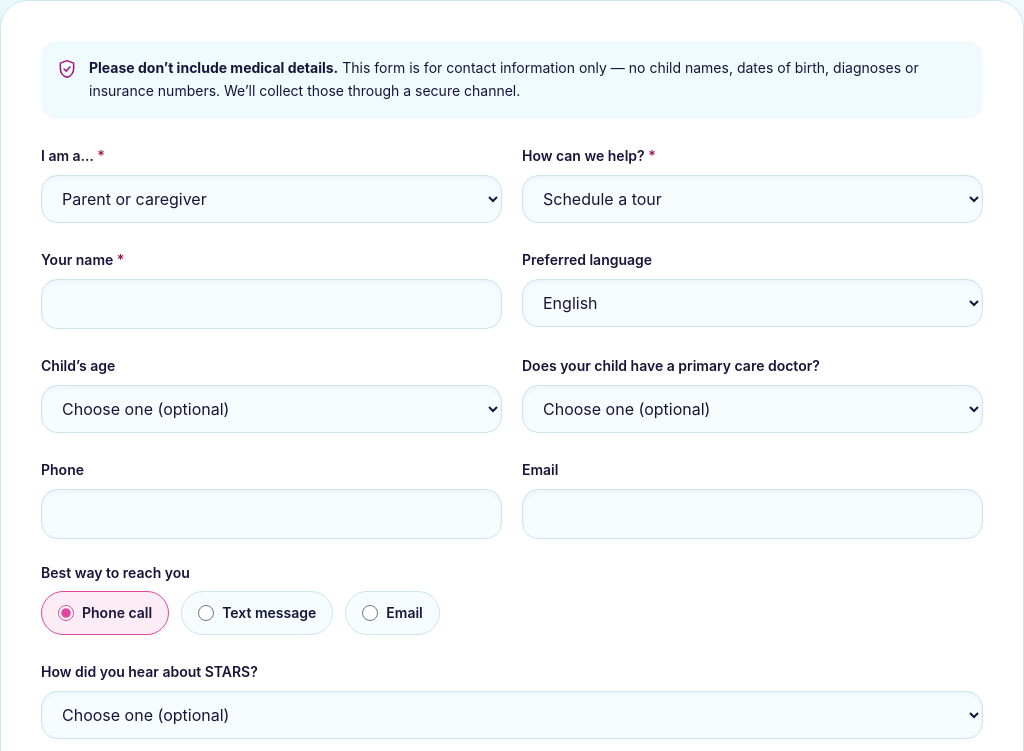
Test: <InquiryForm /> › handles network failures
The width and height of the screenshot is (1024, 751).
In the field labelled "Your name *": (272, 304) [41,278,502,328], type "Jordan Parker"
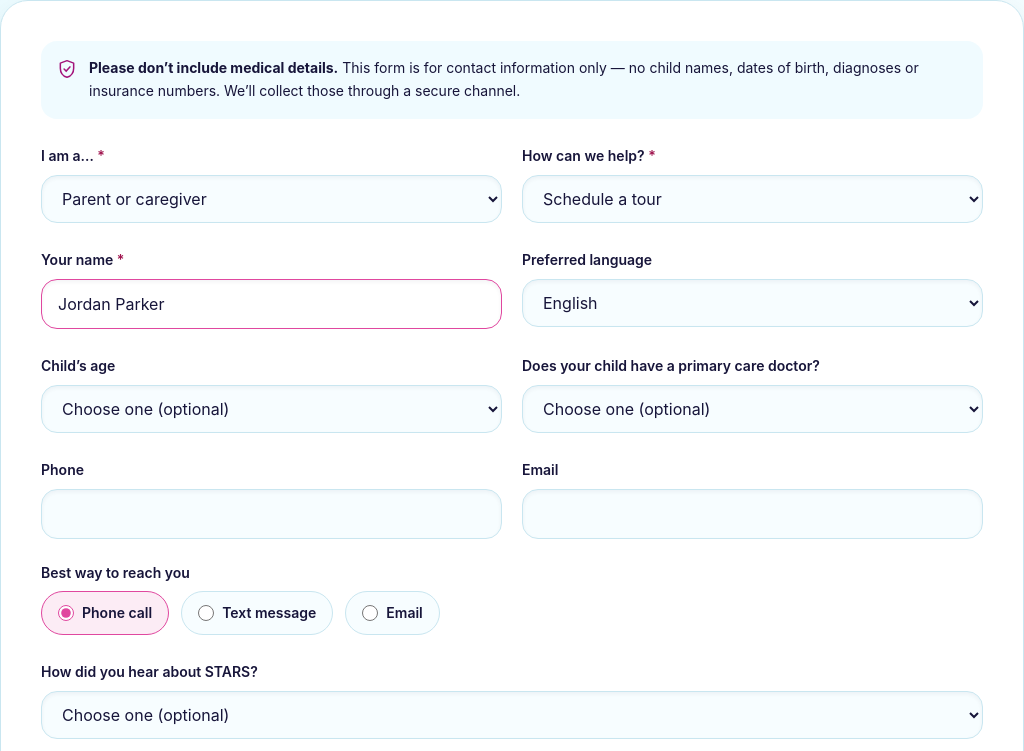
In the field labelled "Phone": (272, 514) [41,488,502,538], type "870-555-0134"
(page scrolled)
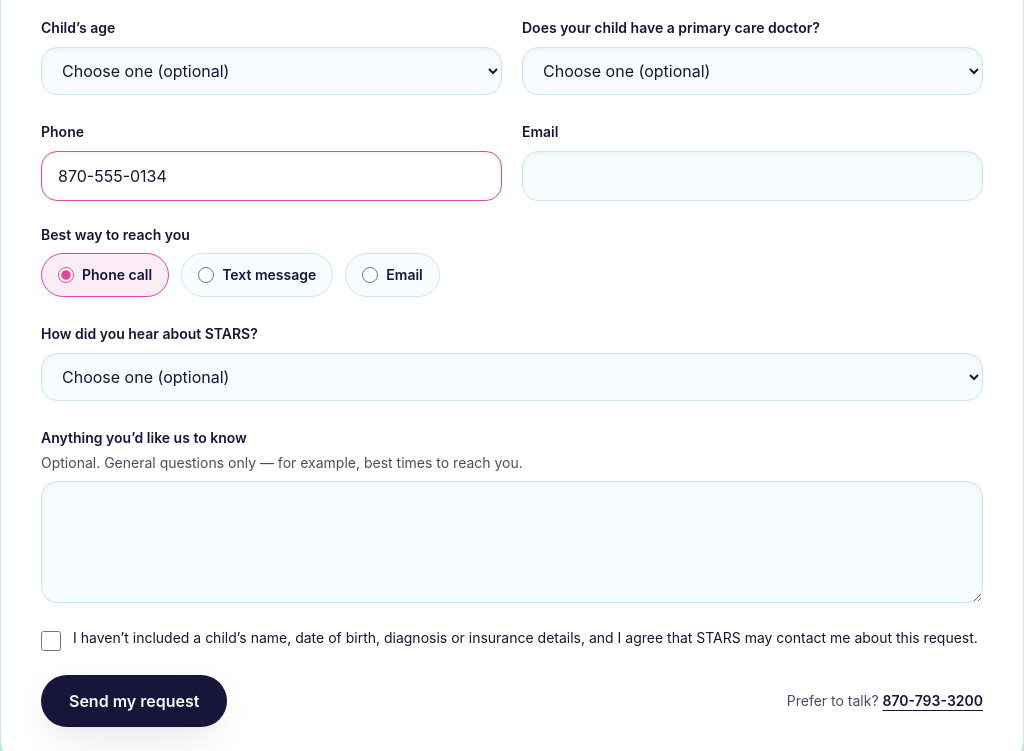
Click the checkbox: (51, 640) [41,630,61,650]
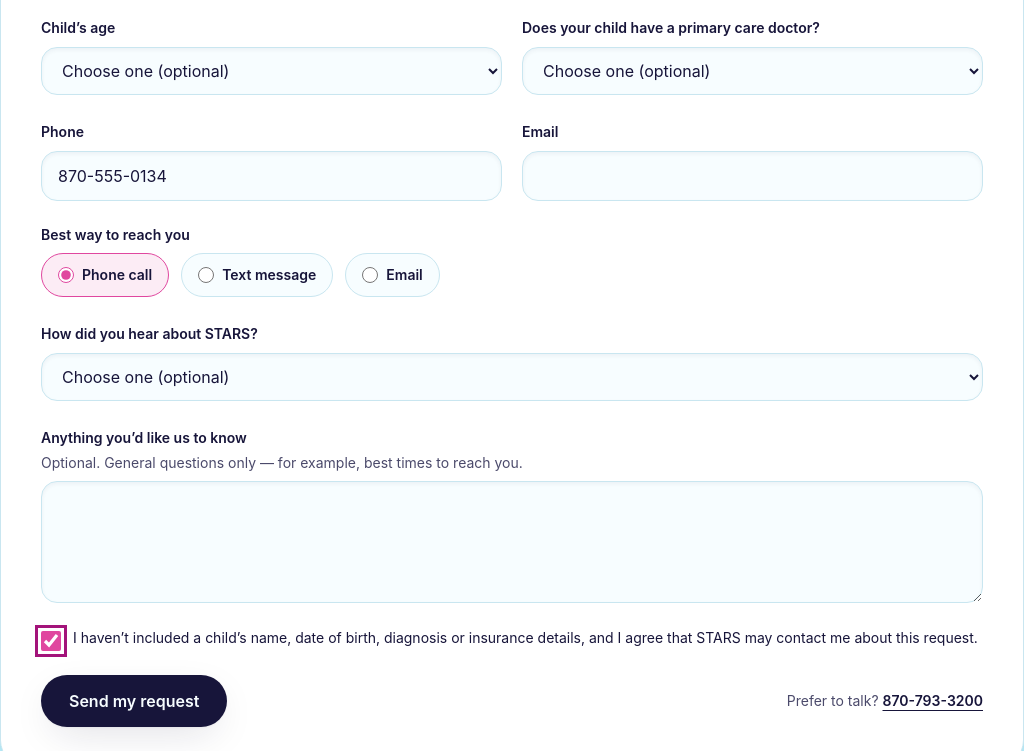
Click the button "Send my request": (134, 700) [41,674,227,726]
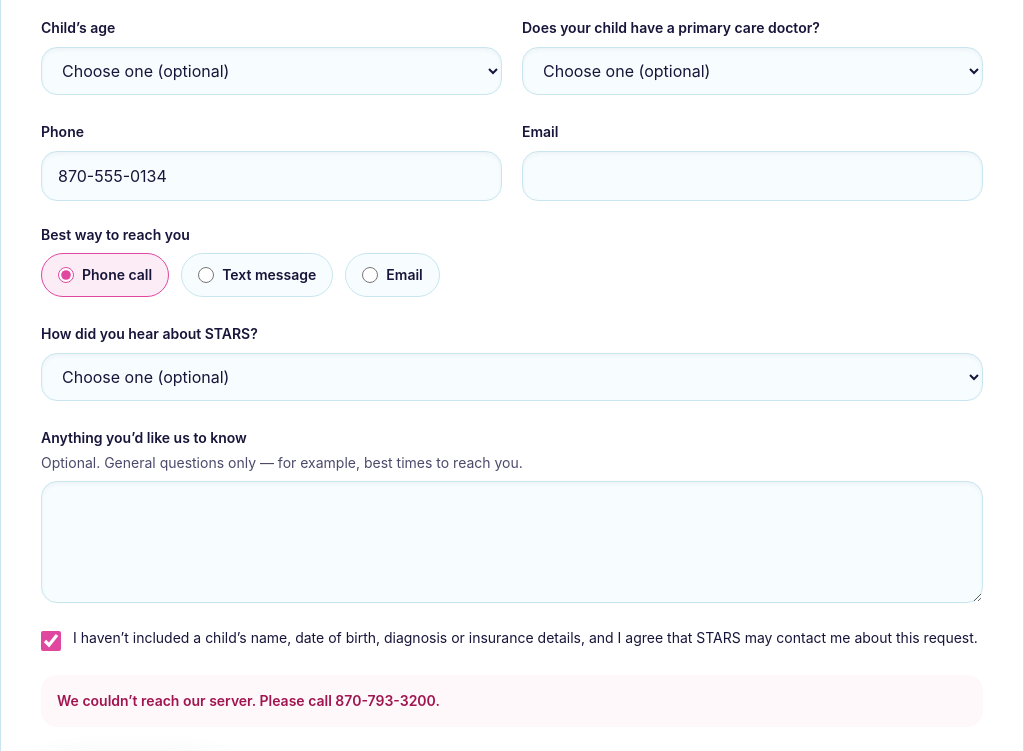
Result: the message shows "couldn’t reach our server" at [57,692,440,708]
